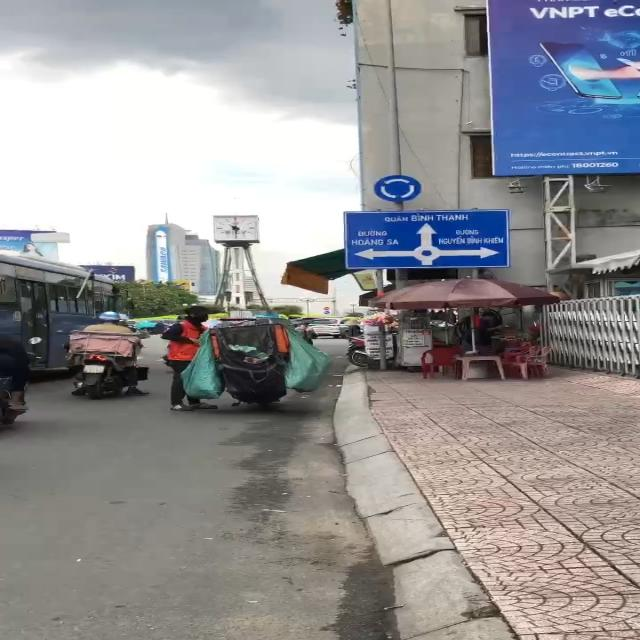Bien bao noi giao nhau chay theo vong xuyen: (371, 170, 422, 204)
